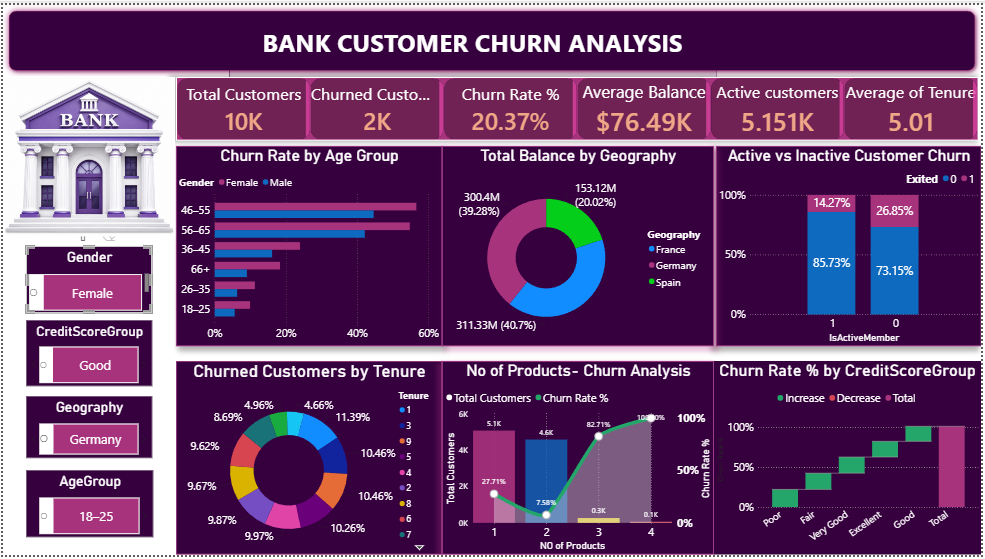

The page's visual inventory and layout, read from the dashboard file:
{"tool":"powerbi","page":{"name":"Page 1","canvas":[1920,1080],"ordinal":0},"visuals":[{"type":"shape","box":[0,0,1920.2,140.4],"z":0},{"type":"textbox","box":[442.8,32.4,956.9,142.6],"z":1000},{"type":"advancedSlicerVisual","title":"Gender","fields":{"Values":["Bank_Customer_Churn_cleaned.Gender"]},"box":[45.4,490.3,248.4,99.4],"z":2000},{"type":"cardVisual","fields":{"Data":["Bank_Customer_Churn_cleaned.Total Customers","Bank_Customer_Churn_cleaned.Churned Customers","Bank_Customer_Churn_cleaned.Churn Rate","Avg(Bank_Customer_Churn_cleaned.Balance)","Bank_Customer_Churn_cleaned.Active Members","Avg(Bank_Customer_Churn_cleaned.Tenure)"]},"box":[339.1,140.4,1581.1,125.3],"z":3000},{"type":"advancedSlicerVisual","fields":{"Values":["Bank_Customer_Churn_cleaned.Geography"]},"box":[45.4,753.8,248.4,99.4],"z":4000},{"type":"advancedSlicerVisual","fields":{"Values":["Bank_Customer_Churn_cleaned.AgeGroup"]},"box":[45.4,905,250.6,99.4],"z":5000},{"type":"advancedSlicerVisual","fields":{"Values":["Bank_Customer_Churn_cleaned.CreditScoreGroup"]},"box":[45.4,619.9,248.4,99.4],"z":6000},{"type":"clusteredBarChart","title":"Churn Rate by Age Group ","fields":{"Category":["Bank_Customer_Churn_cleaned.AgeGroup"],"Y":["Bank_Customer_Churn_cleaned.Churn Rate"],"Series":["Bank_Customer_Churn_cleaned.Gender"]},"box":[339.1,276.5,522.7,393.1],"z":7000},{"type":"hundredPercentStackedColumnChart","title":"Active vs Inactive Customer Churn","fields":{"Y":["Bank_Customer_Churn_cleaned.Total Customers"],"Category":["Bank_Customer_Churn_cleaned.IsActiveMember"],"Series":["Bank_Customer_Churn_cleaned.Exited"]},"box":[1399.7,276.5,520.6,393.1],"z":8000},{"type":"donutChart","fields":{"Category":["Bank_Customer_Churn_cleaned.Tenure"],"Y":["Bank_Customer_Churn_cleaned.Churned Customers"]},"box":[339.1,699.8,522.7,380.2],"z":9000},{"type":"lineClusteredColumnComboChart","title":"No of Products- Churn Analysis","fields":{"Category":["Bank_Customer_Churn_cleaned.NumOfProducts"],"Y":["Bank_Customer_Churn_cleaned.Total Customers"],"Y2":["Bank_Customer_Churn_cleaned.Churn Rate"]},"box":[861.8,699.8,533.5,380.2],"z":10000},{"type":"waterfallChart","fields":{"Category":["Bank_Customer_Churn_cleaned.CreditScoreGroup"],"Y":["Bank_Customer_Churn_cleaned.Churn Rate"]},"box":[1395.4,699.8,524.9,380.2],"z":13000},{"type":"donutChart","title":"Total Balance by Geography","fields":{"Category":["Bank_Customer_Churn_cleaned.Geography"],"Y":["Sum(Bank_Customer_Churn_cleaned.Balance)"]},"box":[861.8,276.5,533.5,393.1],"z":13001},{"type":"image","box":[0,140.4,339.1,313.2],"z":13002}]}

Visuals, with their boxes in screenshot pixels (x1, y1, x2, y2), scaled from the page's 1920x1080 canvas onto the 985x559 screenshot:
shape: 0:0:984:73
textbox: 227:17:718:91
"Gender" advancedSlicerVisual: 23:254:151:305
cardVisual - Bank_Customer_Churn_cleaned.Total Customers x Bank_Customer_Churn_cleaned.Churned Customers: 174:73:984:138
advancedSlicerVisual - Bank_Customer_Churn_cleaned.Geography: 23:390:151:442
advancedSlicerVisual - Bank_Customer_Churn_cleaned.AgeGroup: 23:468:152:520
advancedSlicerVisual - Bank_Customer_Churn_cleaned.CreditScoreGroup: 23:321:151:372
"Churn Rate by Age Group " clusteredBarChart: 174:143:442:347
"Active vs Inactive Customer Churn" hundredPercentStackedColumnChart: 718:143:984:347
donutChart - Bank_Customer_Churn_cleaned.Tenure x Bank_Customer_Churn_cleaned.Churned Customers: 174:362:442:558
"No of Products- Churn Analysis" lineClusteredColumnComboChart: 442:362:716:558
waterfallChart - Bank_Customer_Churn_cleaned.CreditScoreGroup x Bank_Customer_Churn_cleaned.Churn Rate: 716:362:984:558
"Total Balance by Geography" donutChart: 442:143:716:347
image: 0:73:174:235
